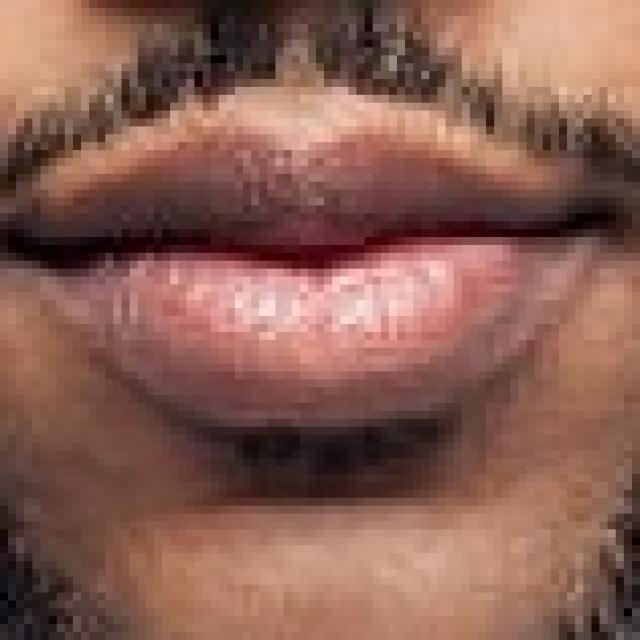closed-mouth: (0, 81, 632, 442)
